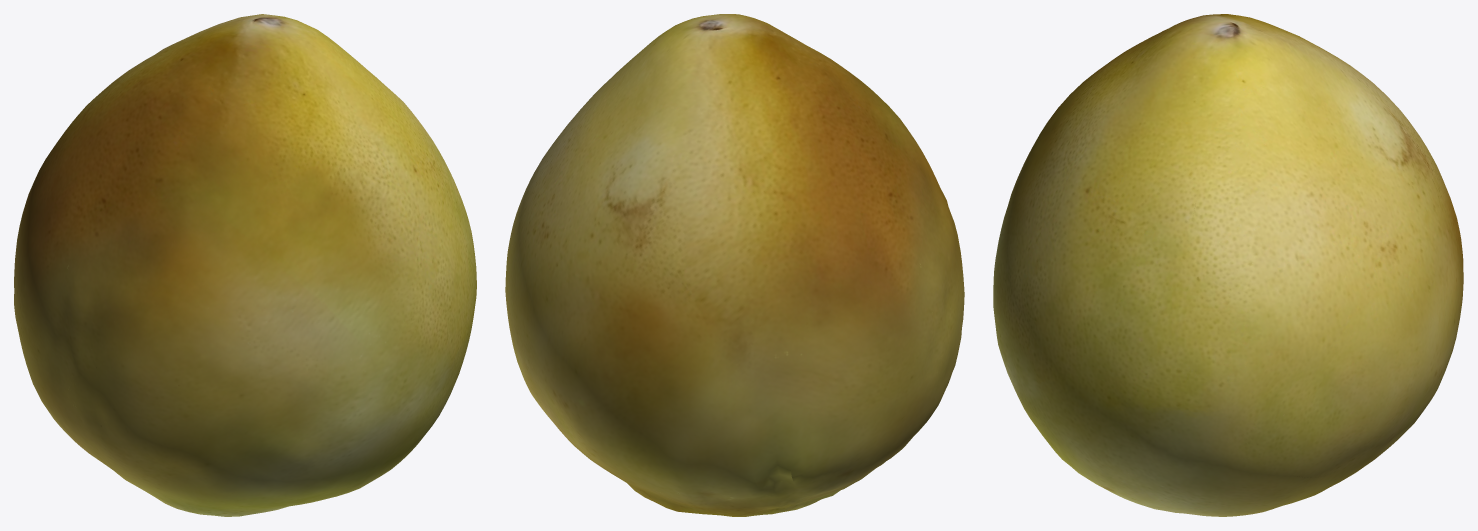
The model's file is Pomelo.fbx.
3 views of the same model, side by side, from view 1: azimuth 30°, elevation 25°; view 2: azimuth 150°, elevation 25°; view 3: azimuth 270°, elevation 25° (orthographic). The views are drawn at different scales.
Parts seen in each view (by area): view 1: pomelo_001; view 2: pomelo_001; view 3: pomelo_001.
Part boxes in pixels (x1,y1,x2,y2): pomelo_001: (14, 14, 476, 516); pomelo_001: (505, 14, 964, 516); pomelo_001: (993, 14, 1463, 516).
Size of the model in its own units: 169 by 186 by 168.
